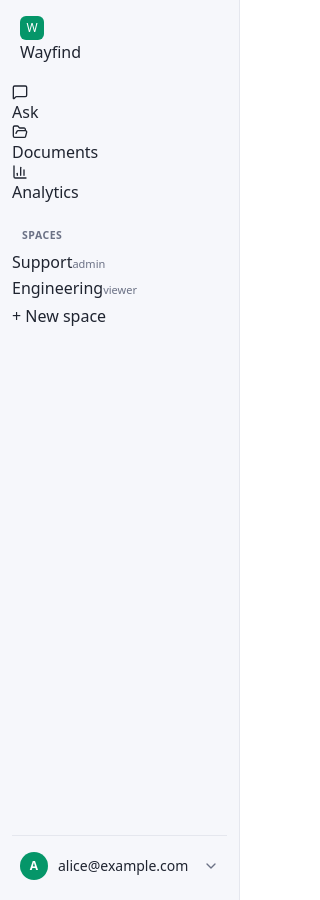
Test: theme choice › a saved choice is shown as selected when the menu opens
Click the button with aria-label "account menu".
click(120, 866)  # box [12,844,227,888]
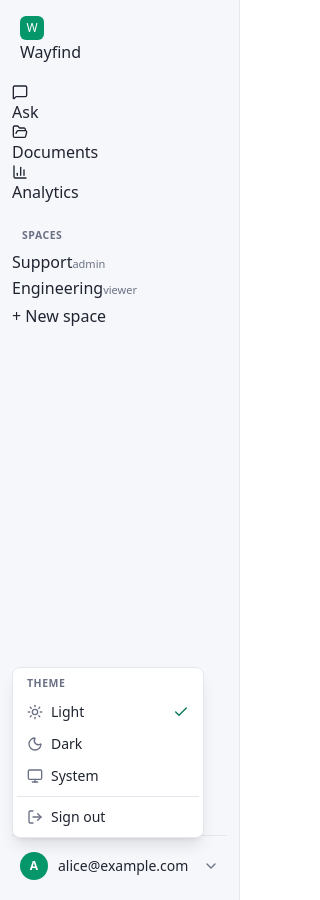
Expected: the menu item "Light" is checked, [27,702,189,721]
